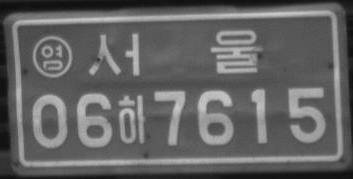0: (32, 92, 68, 149)
1: (244, 87, 275, 144)
5: (287, 85, 326, 144)
6: (196, 89, 234, 146), (76, 92, 112, 149)
7: (153, 89, 185, 146)
서울_D: (86, 29, 263, 77)
영: (32, 35, 72, 79)
하: (118, 93, 146, 145)
